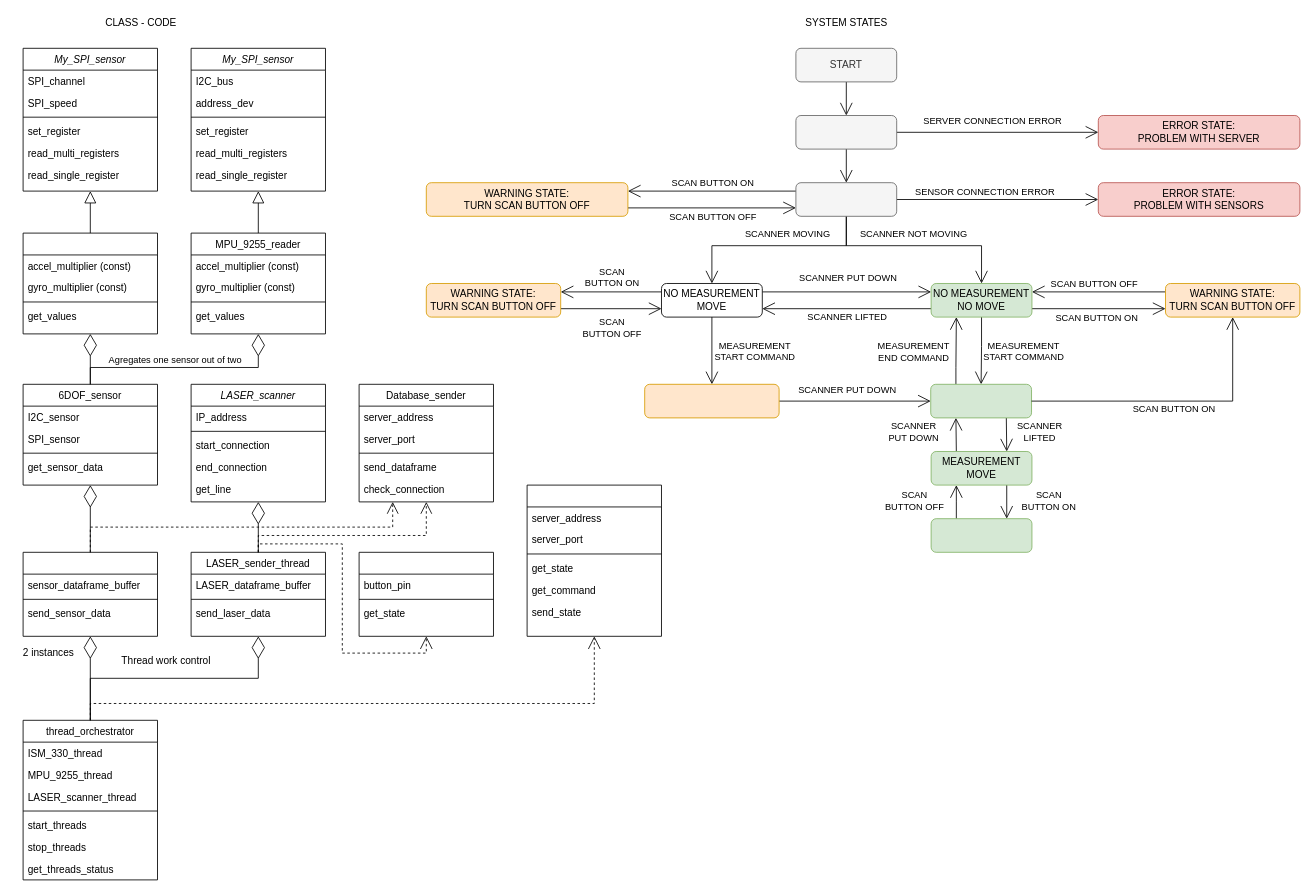
Some shapes in this 1315 by 896 pixel diagram are drawn without their labels. Each missing label, with the box of its shape:
6DOF_sender_thread: (22, 551, 158, 636)
CONNECTING TO SERVER: (795, 115, 897, 149)
INITIALIZING SENSORS: (795, 182, 897, 216)
ISM_330_reader: (22, 232, 158, 334)
MEASUREMENT MOVE + SCAN: (930, 518, 1032, 552)
MEASUREMENT NO MOVE: (930, 383, 1032, 418)
Measurement_button: (358, 551, 494, 636)
TCP_socket_client: (526, 484, 662, 636)
WARNING STATE: PUT SCANNER DOWN: (644, 383, 779, 418)
